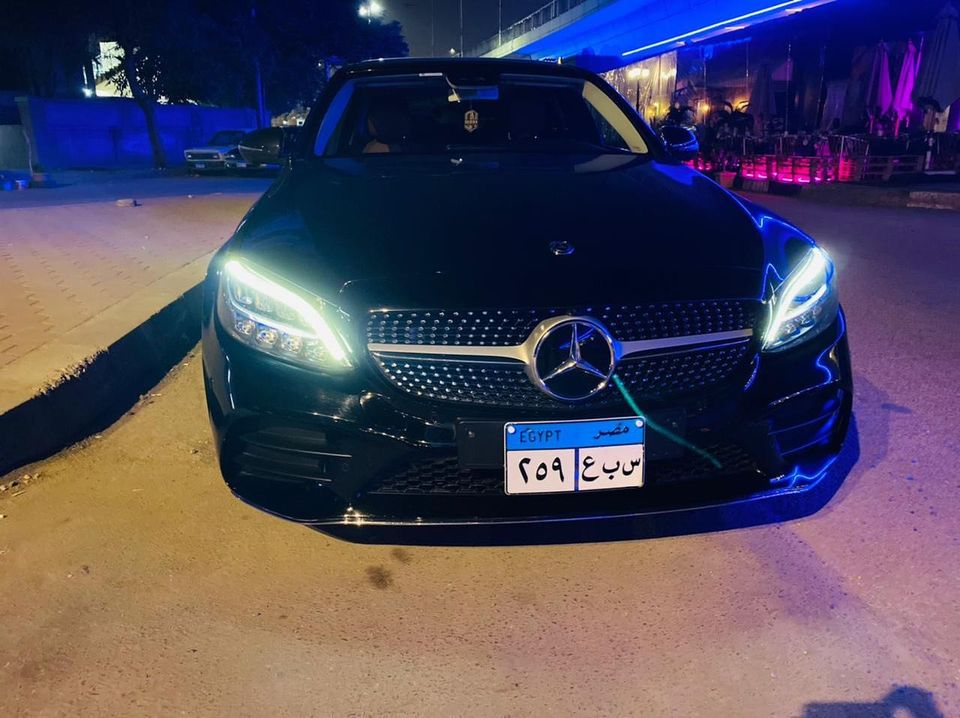carpl: (506, 427, 645, 492)
